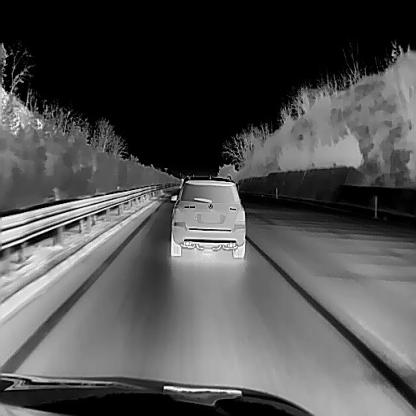car: (169, 172, 245, 257)
